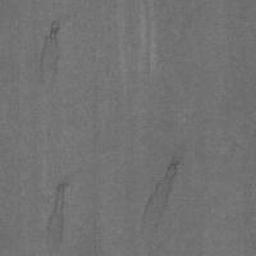Water spot: (138, 151, 187, 252), (44, 180, 72, 255), (38, 18, 64, 90)
